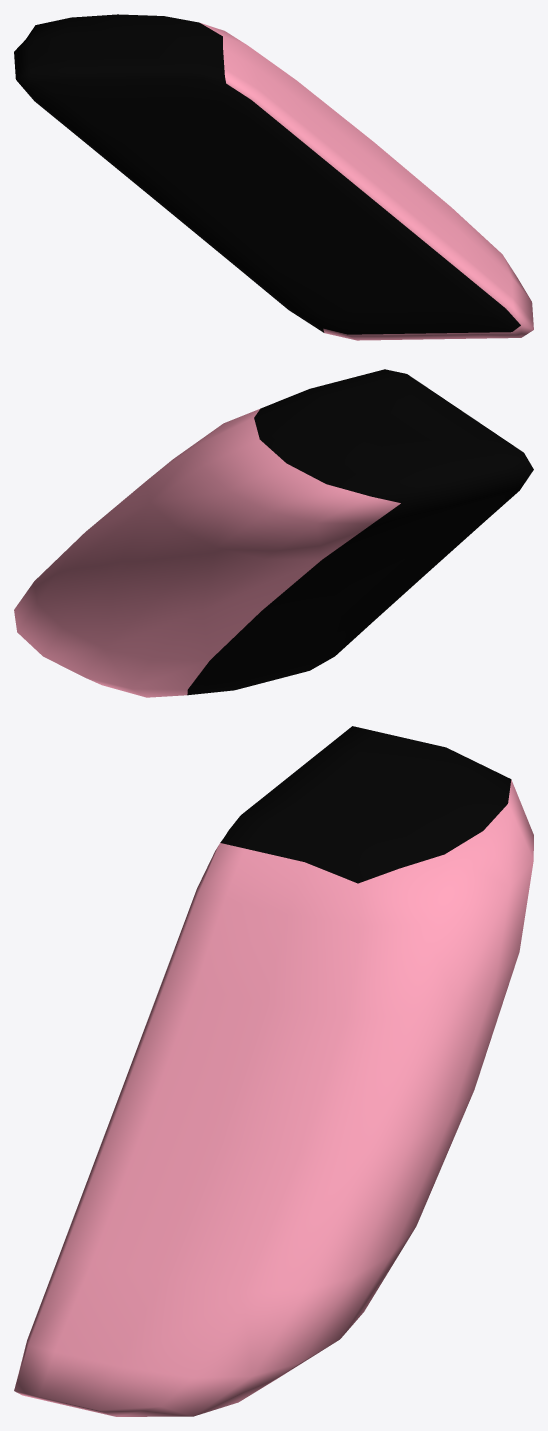
3 renders of one model, top to bottom at view 1: azimuth 30°, elevation 25°; view 2: azimuth 150°, elevation 25°; view 3: azimuth 270°, elevation 25°, orthographic. The views are drawn at different scales.
Visible parts, largest first — view 1: Box1222; view 2: Box1222; view 3: Box1222.
Part boxes in pixels (x1,y1,x2,y2): Box1222: (14,14,533,340); Box1222: (14,369,533,697); Box1222: (14,726,533,1416).
Bounding box in the file's own units: 0.059 × 0.0357 × 0.042.
